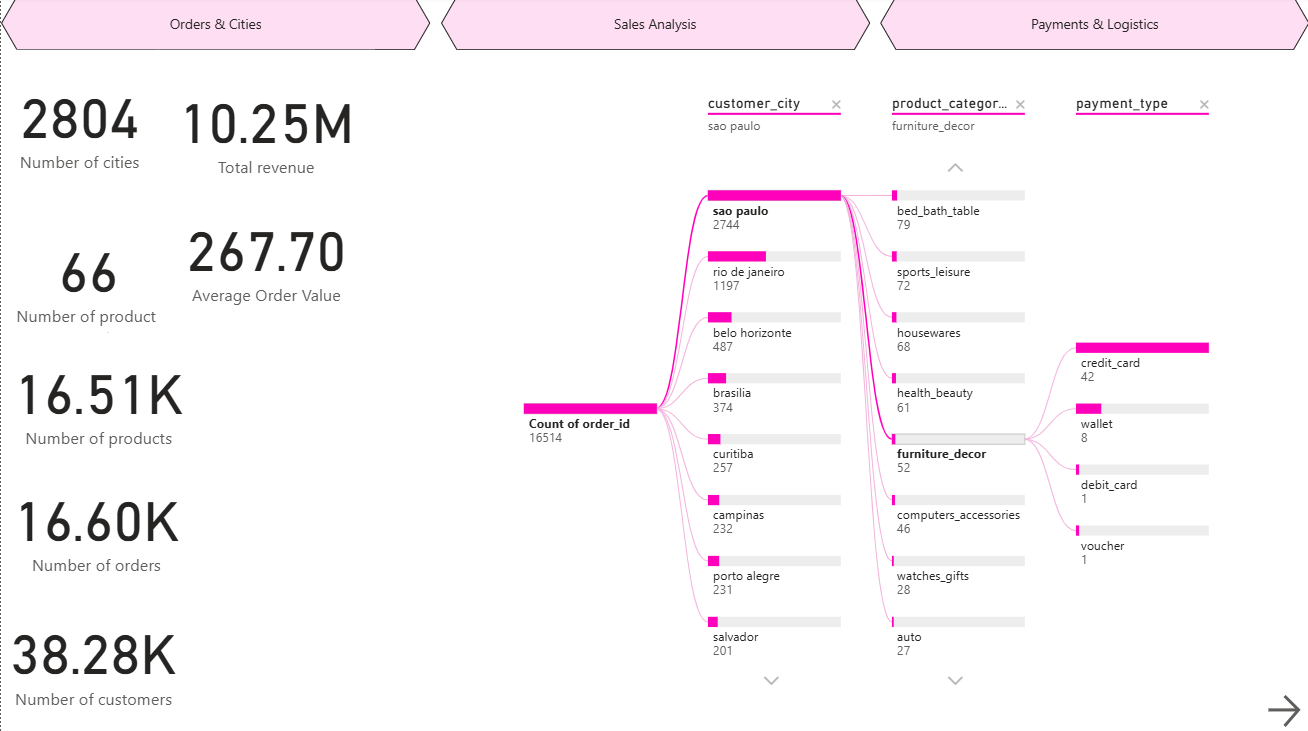

What the dashboard file says about the page in this screenshot:
{"tool":"powerbi","page":{"name":"Home Page","canvas":[1280,720],"ordinal":0},"visuals":[{"type":"pageNavigator","box":[0,0,1280,53.3],"z":0},{"type":"card","fields":{"Values":["Count(df_Customers.customer_city)"]},"box":[0,52.9,154.3,142.9],"z":1000},{"type":"card","fields":{"Values":["Count(df_Products.product_category_name)"]},"box":[0,178.6,171.4,191.4],"z":2000},{"type":"card","fields":{"Values":["Count(df_Customers.customer_id)"]},"box":[0,577.1,181.4,142.9],"z":3000},{"type":"card","fields":{"Values":["Count(df_Products.product_id)"]},"box":[0,328.6,191.4,130],"z":4000},{"type":"card","fields":{"Values":["Count(df_OrderItems.order_id)"]},"box":[0,458.6,187.1,118.6],"z":5000},{"type":"decompositionTreeVisual","fields":{"ExplainBy":["df_Customers.customer_city","df_Products.product_category_name","df_Payments.payment_type"],"Analyze":["CountNonNull(df_OrderItems.order_id)"]},"box":[481.7,80,786.7,626.7],"z":6000},{"type":"card","fields":{"Values":["Sum(df_Payments.payment_value)"]},"box":[154.3,52.9,211.4,152.9],"z":7000},{"type":"actionButton","box":[1233.8,678.7,46.5,41.6],"z":8000},{"type":"card","fields":{"Values":["df_Payments.Average_Order_Value"]},"box":[171.2,178.5,177.3,150.4],"z":9000}]}

Visuals, with their boxes in screenshot pixels (x1, y1, x2, y2), scaled from the page's 1280x720 canvas onto the 1308x731 screenshot:
pageNavigator: l=0, t=0, r=1307, b=54
card - Count(df_Customers.customer_city): l=0, t=54, r=158, b=199
card - Count(df_Products.product_category_name): l=0, t=181, r=175, b=376
card - Count(df_Customers.customer_id): l=0, t=586, r=185, b=730
card - Count(df_Products.product_id): l=0, t=334, r=196, b=466
card - Count(df_OrderItems.order_id): l=0, t=466, r=191, b=586
decompositionTreeVisual - df_Customers.customer_city x df_Products.product_category_name: l=492, t=81, r=1296, b=717
card - Sum(df_Payments.payment_value): l=158, t=54, r=374, b=209
actionButton: l=1261, t=689, r=1307, b=730
card - df_Payments.Average_Order_Value: l=175, t=181, r=356, b=334
